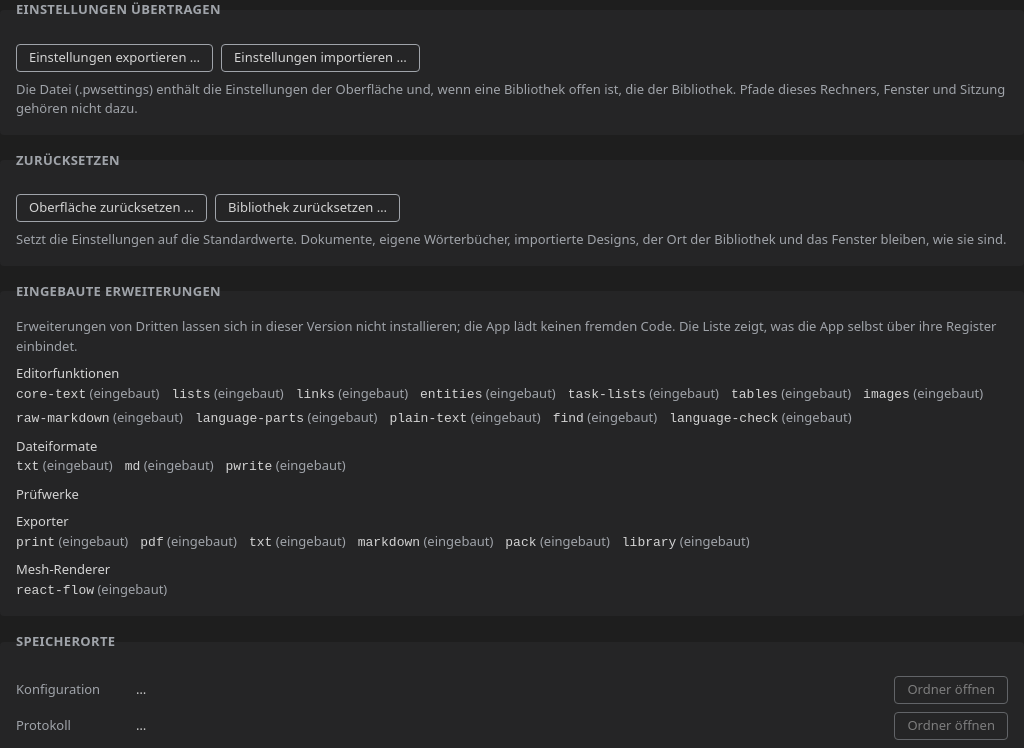
it: AdvancedSettings › applies nothing when the preview is cancelled
Click the button with test id "settings-import".
click(320, 58)  # box [221,44,420,72]
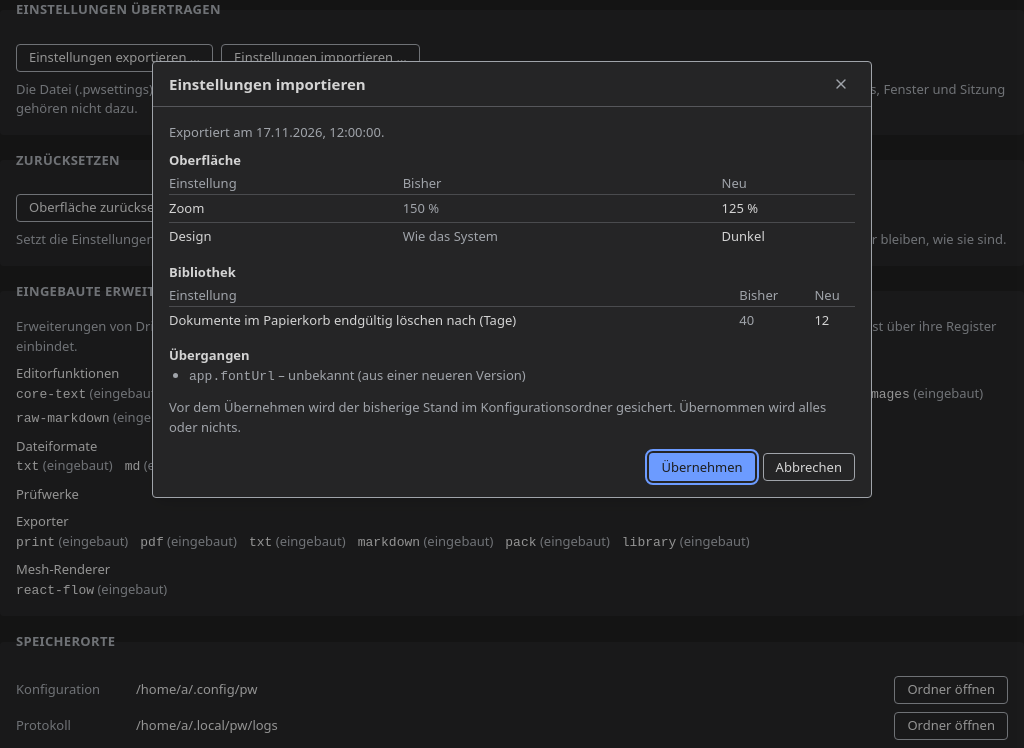
Check: the dialog with test id "settings-import-preview" is shown, box [152,61,872,498]
Press Escape
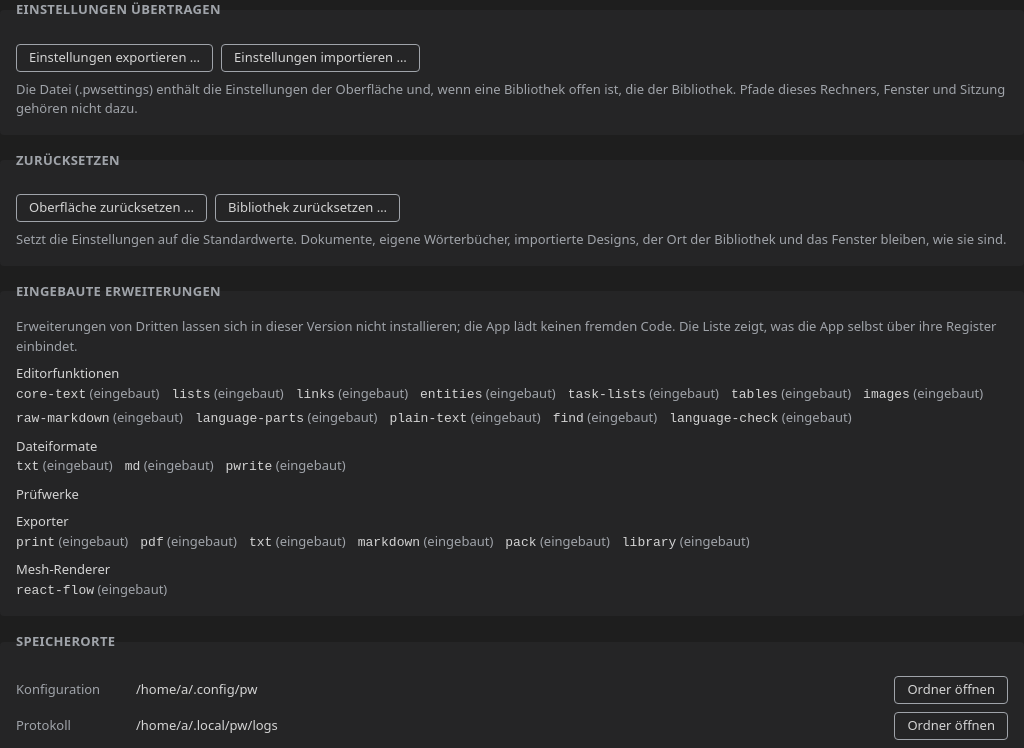
Check: the dialog with test id "settings-import-preview" is gone
